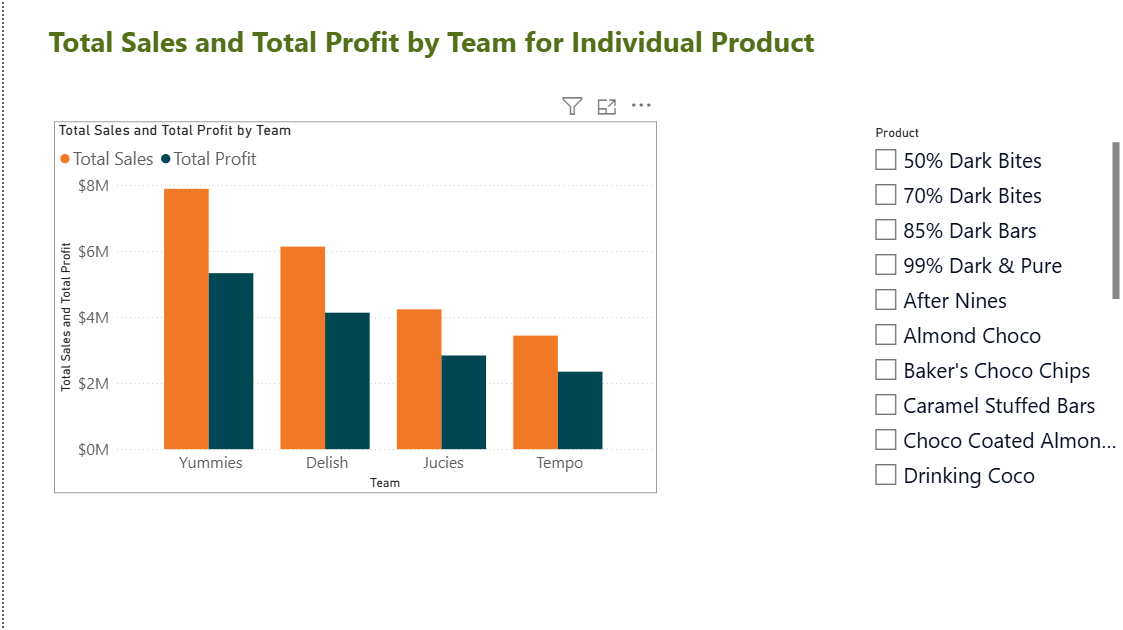

What the dashboard file says about the page in this screenshot:
{"tool":"powerbi","page":{"name":"Total Profit","canvas":[1280,720],"ordinal":0},"visuals":[{"type":"clusteredColumnChart","fields":{"Category":["actuals.Team"],"Y":["actuals.Total Sales","actuals.Total Profit"]},"box":[57.5,138.2,689.7,426.8],"z":0},{"type":"slicer","fields":{"Values":["actuals.Product"]},"box":[983.2,138.2,297.1,426.8],"z":1000},{"type":"textbox","box":[45.2,19.6,937.9,70.9],"z":2000}]}

Visuals, with their boxes in screenshot pixels (x1, y1, x2, y2), scaled from the page's 1280x720 canvas onto the 1123x630 screenshot:
clusteredColumnChart - actuals.Team x actuals.Total Sales: pyautogui.locateOnScreen(50, 121, 656, 494)
slicer - actuals.Product: pyautogui.locateOnScreen(863, 121, 1122, 494)
textbox: pyautogui.locateOnScreen(40, 17, 863, 79)
